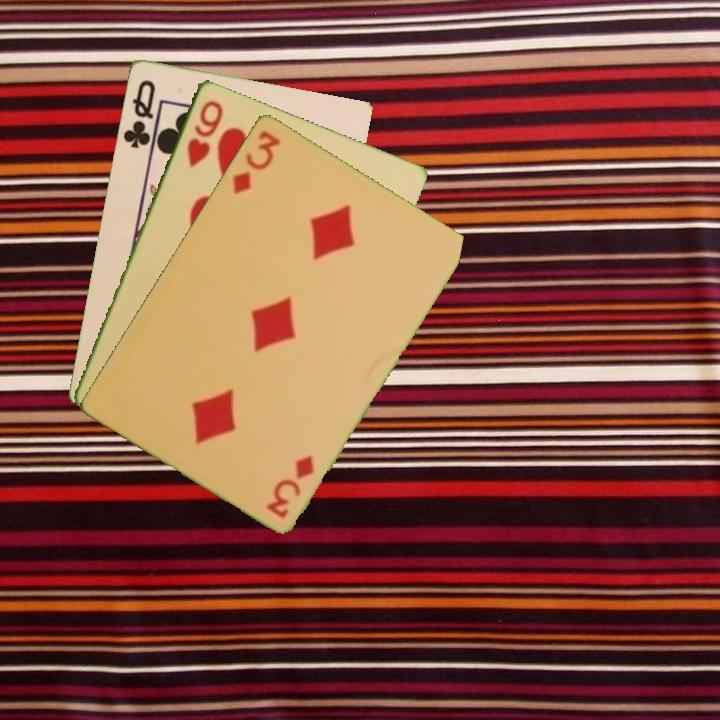3d: (228, 126, 283, 197), (262, 451, 317, 521)
9h: (183, 96, 226, 170)
Qc: (119, 75, 158, 151)
